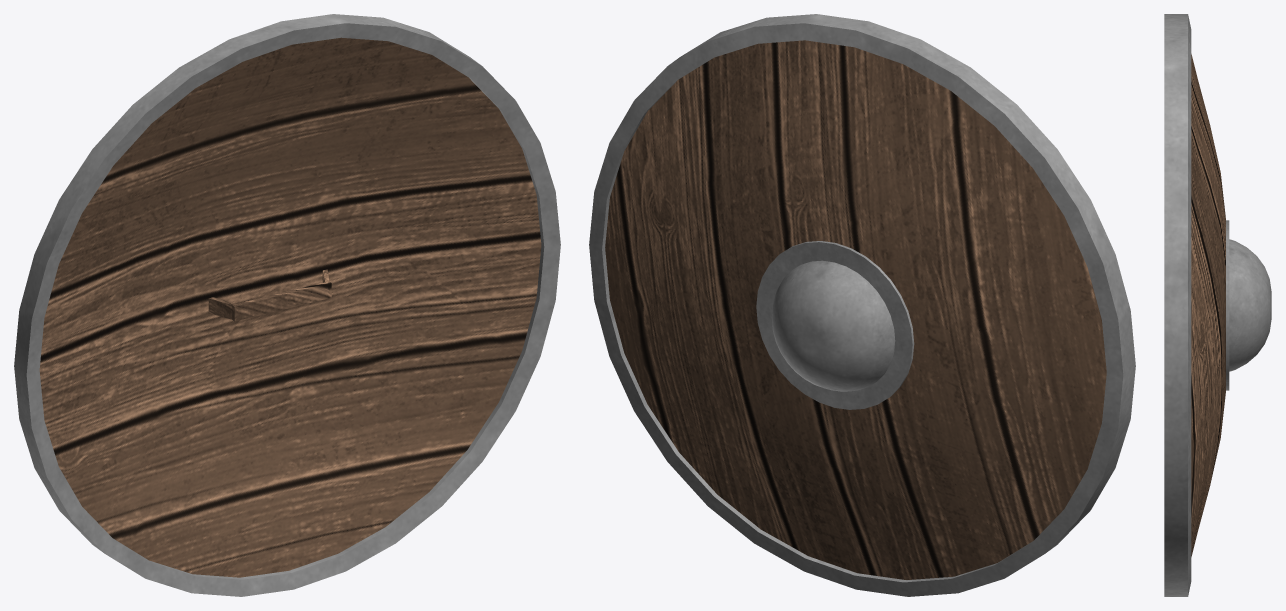
File: wooden_round_shield.glb
3 renders of one model, left to right at view 1: azimuth 30°, elevation 25°; view 2: azimuth 150°, elevation 25°; view 3: azimuth 270°, elevation 25°, orthographic. The views are drawn at different scales.
Visible parts, largest first — view 1: Circle; view 2: Circle; view 3: Circle.
Boxes of the visible parts, x1=… form: Circle: x1=14, y1=14, x2=560, y2=596; Circle: x1=589, y1=14, x2=1135, y2=596; Circle: x1=1164, y1=14, x2=1271, y2=596.
Size of the model in its own units: 0.5535 by 0.5535 by 0.1017.
1 material, 1 textured.
